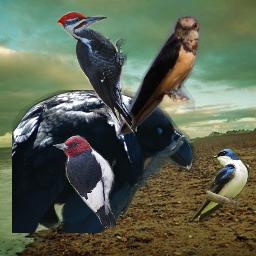Crow: (12, 90, 196, 233)
Swallow: (117, 15, 201, 139), (191, 148, 252, 222)
Woodpecker: (56, 11, 137, 136), (53, 136, 116, 228)
